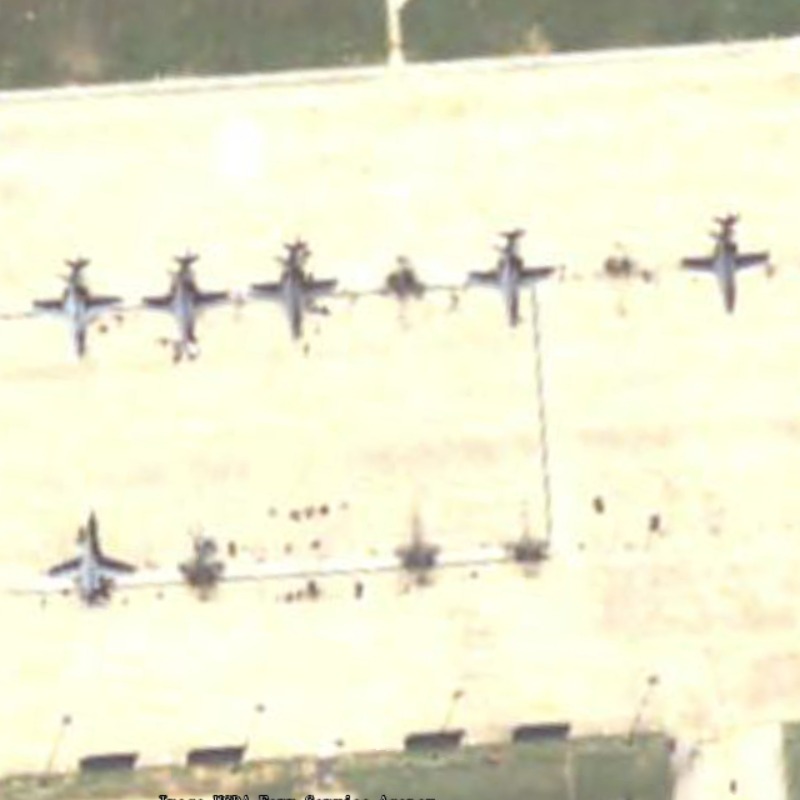A10: (32, 245, 133, 366), (672, 207, 784, 316), (241, 228, 342, 347), (461, 220, 560, 333), (41, 504, 145, 608), (142, 241, 233, 359)
